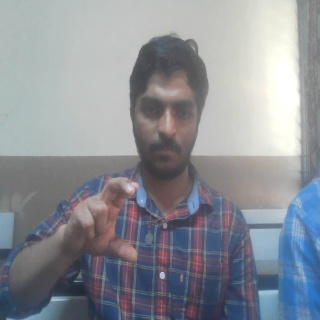Face: (127, 35, 210, 183)
No: (56, 175, 139, 265)
